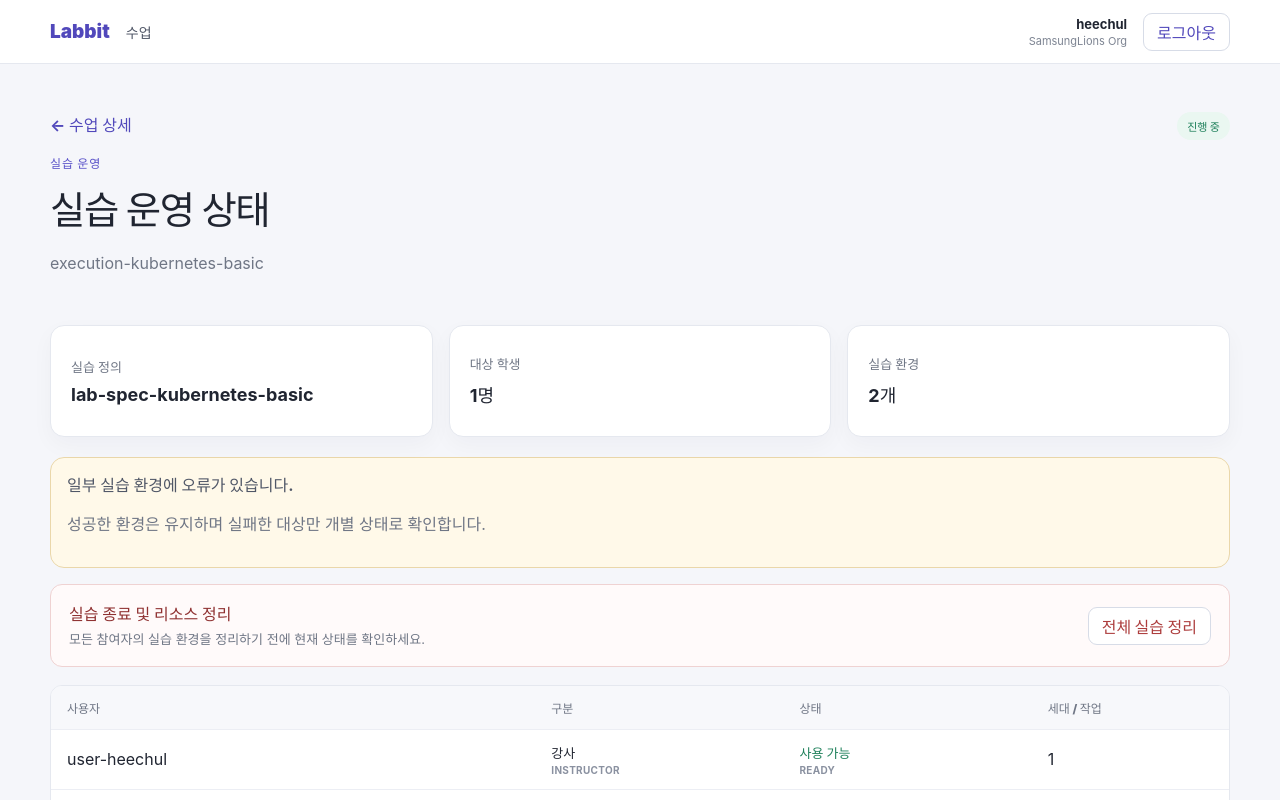
Test: Auth·Class·LabSpec routing › 강사는 LabExecution Cleanup을 확인한 뒤 Operation을 시작한다
Expected: the heading "실습 운영 상태" is shown, [50,179,269,235]
Click the button "전체 실습 정리" at (1149, 626), box [1088,607,1211,645]
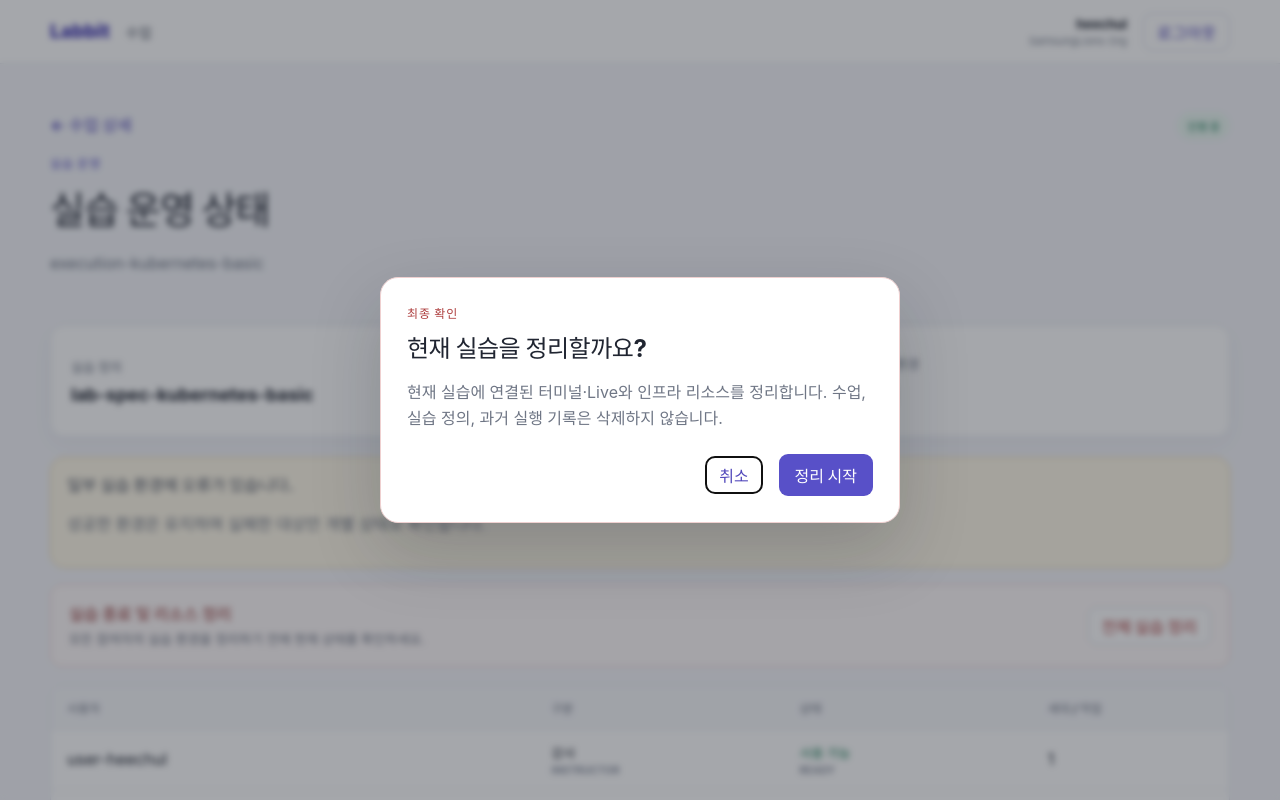
Now the heading "현재 실습을 정리할까요?" is shown, box [407,334,646,363]
Click the button "정리 시작" at (826, 475), box [779,454,873,496]
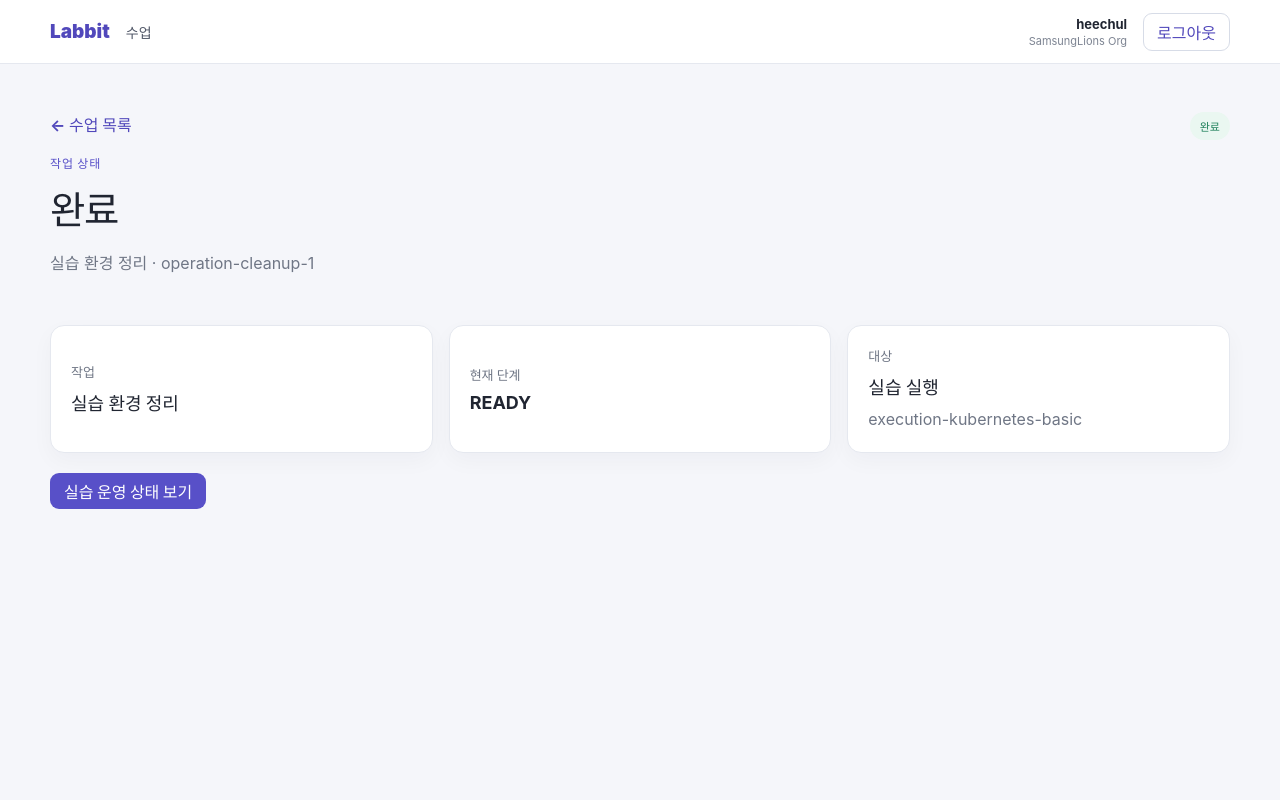
Now the heading "완료" is shown, box [50,187,118,233]
